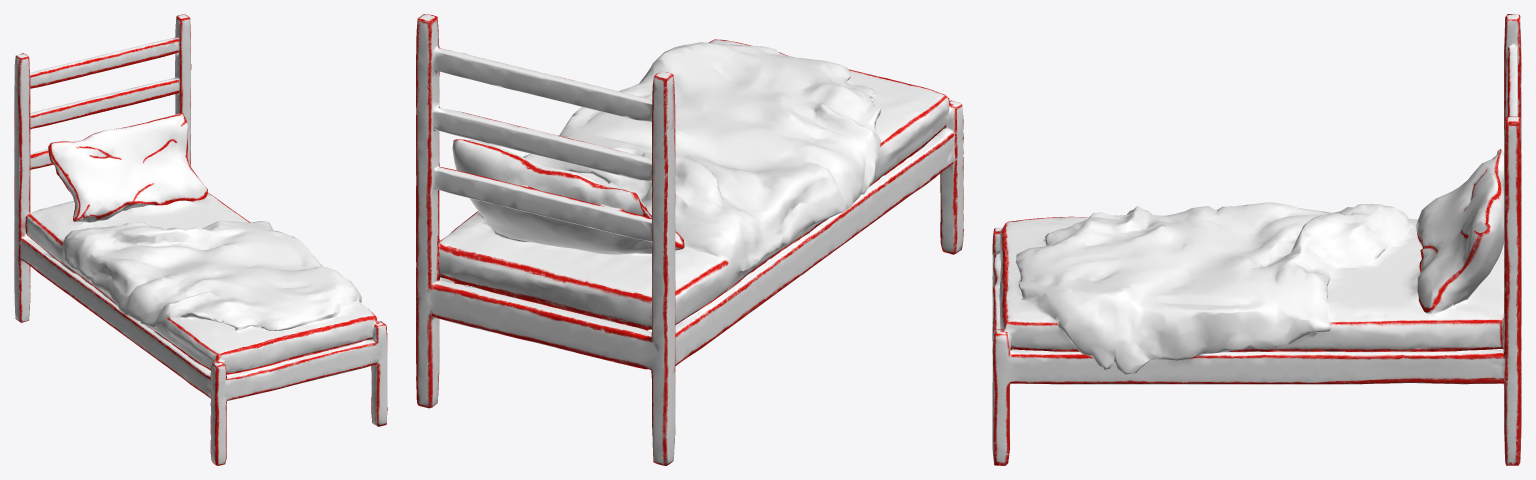
Rendered from cama-vermelha.glb.
3 renders of one model, left to right at view 1: azimuth 30°, elevation 25°; view 2: azimuth 150°, elevation 25°; view 3: azimuth 270°, elevation 25°, orthographic. The views are drawn at different scales.
Parts seen in each view (by area): view 1: Patch, Patch_3, Patch_2, Patch_9, Patch_13, Patch_7, Patch_4, Patch_5, Patch_12, Patch_11, Patch_10; view 2: Patch, Patch_3, Patch_9, Patch_2, Patch_13, Patch_14, Patch_11, Patch_6, Patch_5, Patch_4, Patch_12; view 3: Patch, Patch_3, Patch_8, Patch_2, Patch_11, Patch_10, Patch_13, Patch_4, Patch_7.
Part boxes in pixels (x1,y1,x2,y2): Patch: [62, 221, 361, 330]; Patch_3: [25, 193, 377, 374]; Patch_2: [48, 113, 208, 222]; Patch_9: [20, 237, 210, 398]; Patch_13: [14, 53, 30, 322]; Patch_7: [224, 339, 380, 400]; Patch_4: [30, 37, 179, 88]; Patch_5: [30, 78, 179, 129]; Patch_12: [210, 361, 229, 465]; Patch_11: [175, 14, 191, 166]; Patch_10: [371, 321, 387, 426]; Patch: [523, 42, 881, 272]; Patch_3: [437, 39, 950, 330]; Patch_9: [675, 130, 954, 365]; Patch_2: [452, 139, 684, 254]; Patch_13: [650, 71, 675, 465]; Patch_14: [428, 280, 657, 369]; Patch_11: [416, 14, 440, 408]; Patch_6: [432, 165, 652, 242]; Patch_5: [434, 107, 652, 181]; Patch_4: [433, 47, 652, 122]; Patch_12: [940, 100, 963, 254]; Patch: [1015, 202, 1409, 374]; Patch_3: [999, 216, 1503, 351]; Patch_8: [1009, 349, 1505, 384]; Patch_2: [1412, 149, 1503, 314]; Patch_11: [1502, 116, 1521, 465]; Patch_10: [992, 329, 1010, 465]; Patch_13: [1504, 14, 1521, 165]; Patch_4: [1507, 47, 1518, 116]; Patch_7: [992, 253, 1000, 330].
Bounding box in the file's own units: 1.23 × 1.64 × 2.28.
Materials: 1 (1 with a texture image).
